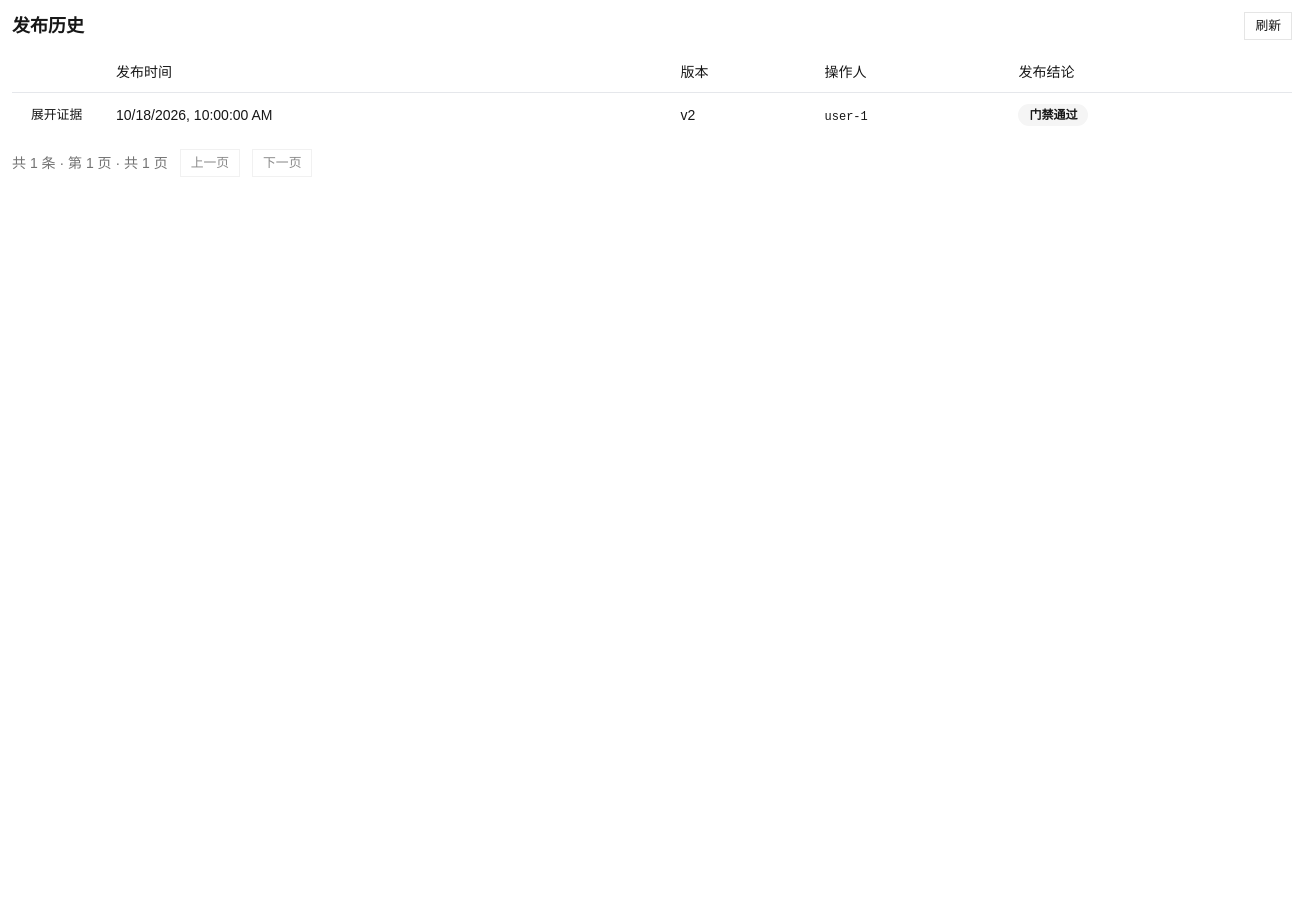
Test: PublicationHistoryPanel › renders missing baseline as 未记录, not fabricated data
Click the button "展开证据" at (57, 114), box 20,100 -> 93,128
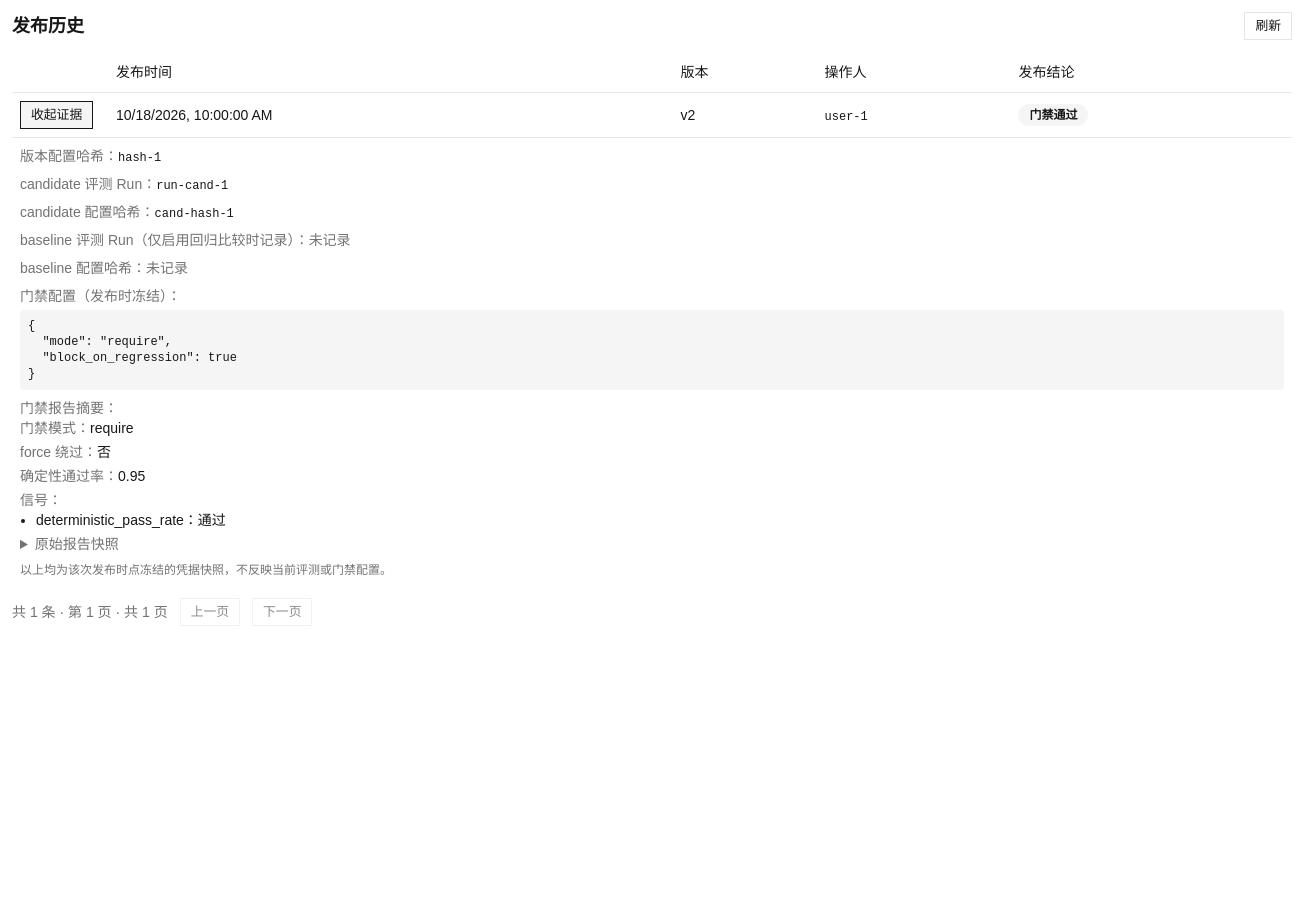
Expected: the row with test id "evidence-receipt-" shows "baseline 评测 Run", 20,232 -> 295,248
Expected: the row with test id "evidence-receipt-" shows "未记录", 309,232 -> 351,248
